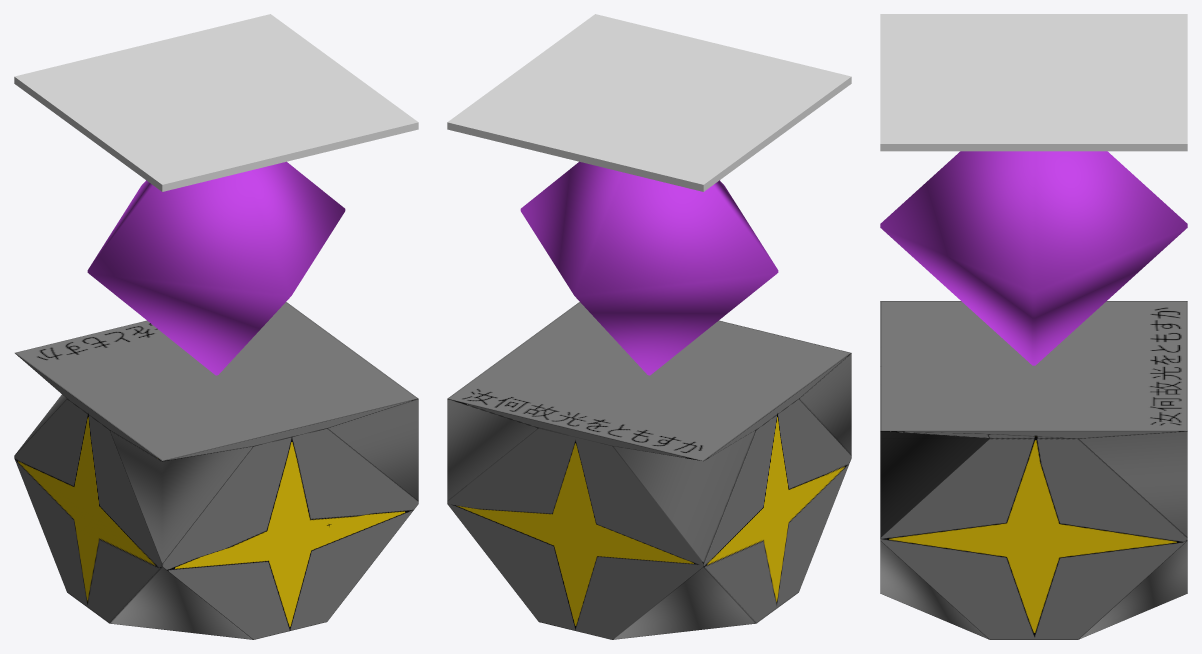
3 views of the same model, side by side, from view 1: azimuth 30°, elevation 25°; view 2: azimuth 150°, elevation 25°; view 3: azimuth 270°, elevation 25° (orthographic). The views are drawn at different scales.
Parts seen in each view (by area): view 1: 平面, 平面.001, Cube; view 2: 平面, 平面.001, Cube; view 3: 平面, 平面.001, Cube.
Boxes of the visible parts, x1,y1,x2,y2 form: 平面: [14, 302, 418, 639]; 平面.001: [14, 14, 418, 191]; Cube: [87, 161, 345, 375]; 平面: [447, 302, 851, 639]; 平面.001: [447, 14, 851, 191]; Cube: [520, 161, 778, 375]; 平面: [880, 301, 1187, 639]; 平面.001: [880, 14, 1187, 151]; Cube: [880, 151, 1187, 365].
Bounding box in the file's own units: 200 × 356 × 200.
